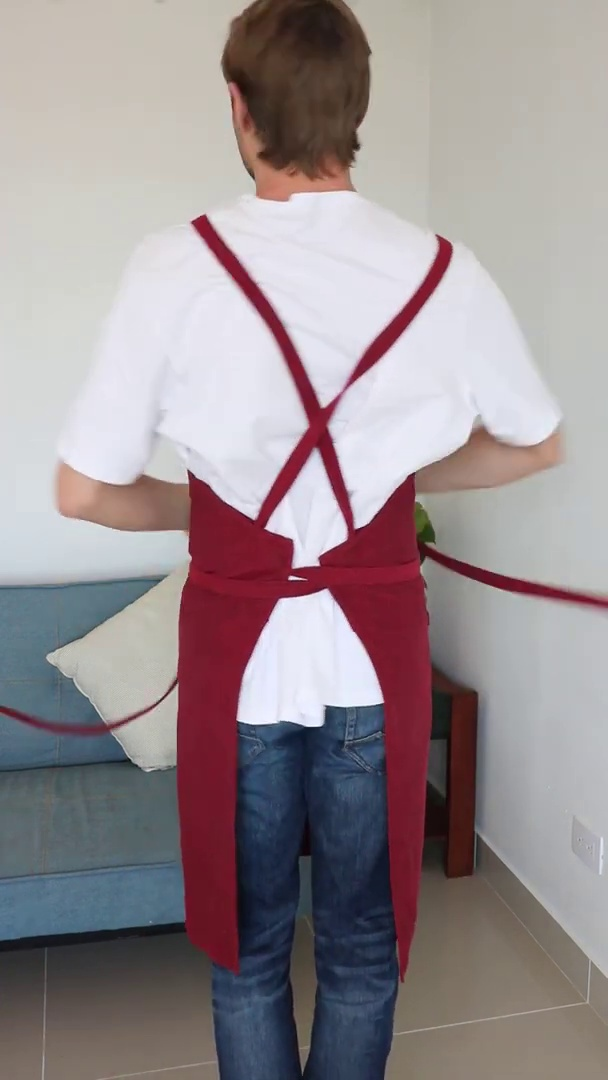Apron: (195, 208, 435, 727)
No_Hairnet: (220, 0, 383, 183)
